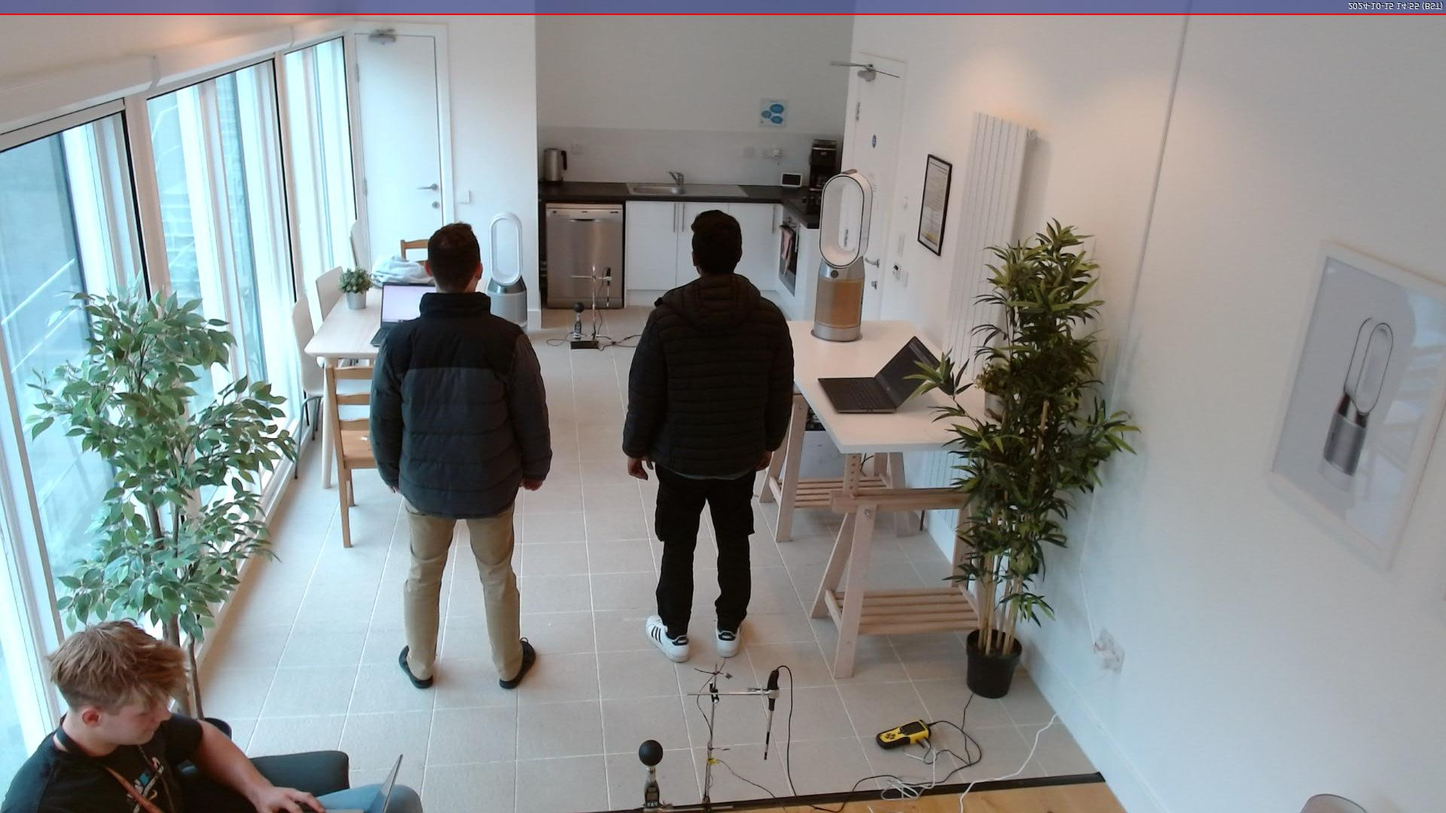coat: (367, 287, 557, 523), (620, 270, 797, 475)
short sleeve shirt: (0, 707, 209, 813)
trousers: (403, 490, 531, 685), (650, 471, 762, 643), (275, 778, 424, 813)
